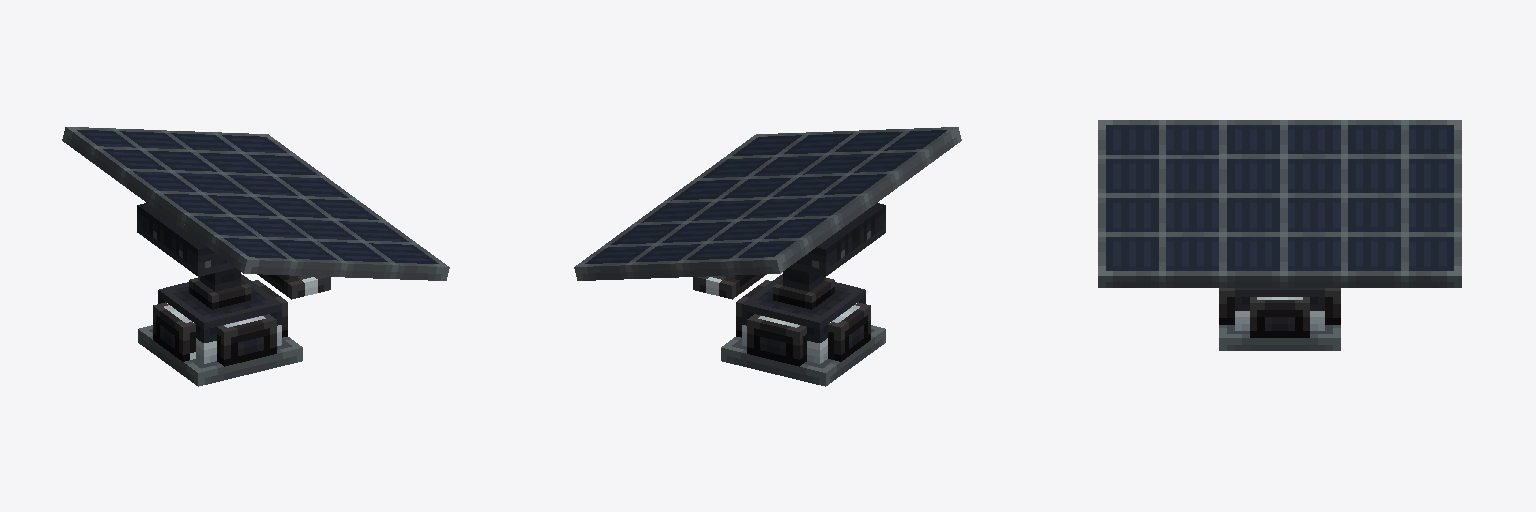
3 views of the same model, side by side, from view 1: azimuth 30°, elevation 25°; view 2: azimuth 150°, elevation 25°; view 3: azimuth 270°, elevation 25° (orthographic).
Parts seen in each view (by area): view 1: bone13, bone5, bone3, bone6, bone2, bone, bone4, bone10, pivotZ, bone12, bone8; view 2: bone13, bone6, bone4, bone2, bone5, bone, bone3, bone10, pivotZ, bone12, bone9; view 3: bone, bone3, bone4, bone2, bone5, bone6, bone13, bone10.
Boxes of the visible parts, x1=… form: bone13: x1=138, y1=280, x2=302, y2=386; bone5: x1=183, y1=216, x2=347, y2=276; bone3: x1=288, y1=219, x2=449, y2=280; bone6: x1=62, y1=127, x2=226, y2=184; bone2: x1=123, y1=171, x2=286, y2=228; bone: x1=228, y1=175, x2=388, y2=222; bone4: x1=168, y1=131, x2=328, y2=178; bone10: x1=158, y1=274, x2=281, y2=363; pivotZ: x1=137, y1=203, x2=295, y2=276; bone12: x1=189, y1=268, x2=250, y2=309; bone8: x1=257, y1=274, x2=330, y2=299; bone13: x1=721, y1=280, x2=885, y2=386; bone6: x1=675, y1=215, x2=840, y2=276; bone4: x1=574, y1=219, x2=734, y2=280; bone2: x1=737, y1=171, x2=900, y2=228; bone5: x1=797, y1=127, x2=961, y2=184; bone: x1=635, y1=175, x2=795, y2=222; bone3: x1=695, y1=131, x2=855, y2=178; bone10: x1=742, y1=274, x2=865, y2=363; pivotZ: x1=789, y1=203, x2=885, y2=276; bone12: x1=773, y1=268, x2=834, y2=309; bone9: x1=693, y1=274, x2=766, y2=299; bone: x1=1219, y1=198, x2=1340, y2=287; bone3: x1=1098, y1=198, x2=1218, y2=287; bone4: x1=1341, y1=198, x2=1461, y2=287; bone2: x1=1219, y1=120, x2=1340, y2=197; bone5: x1=1098, y1=120, x2=1218, y2=197; bone6: x1=1341, y1=120, x2=1461, y2=197; bone13: x1=1219, y1=288, x2=1340, y2=350; bone10: x1=1235, y1=288, x2=1324, y2=330.
Size of the model in its own units: 1.96 by 1.59 by 3.
1 materials, 1 textured.